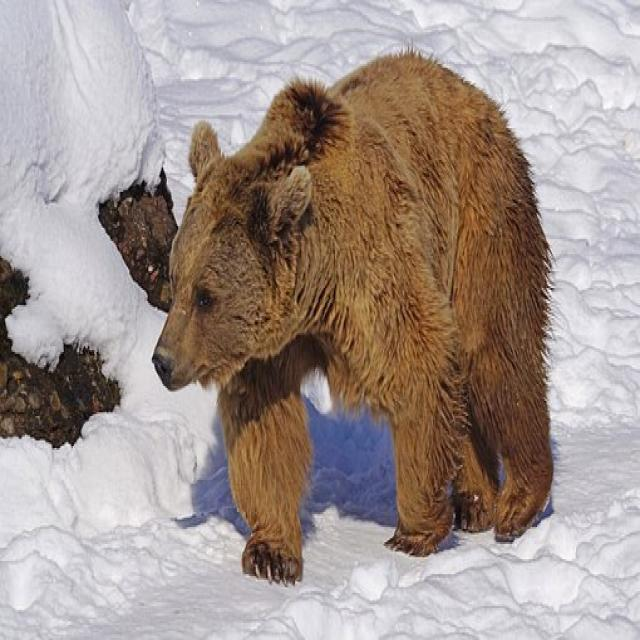Bear: (152, 53, 556, 587)
